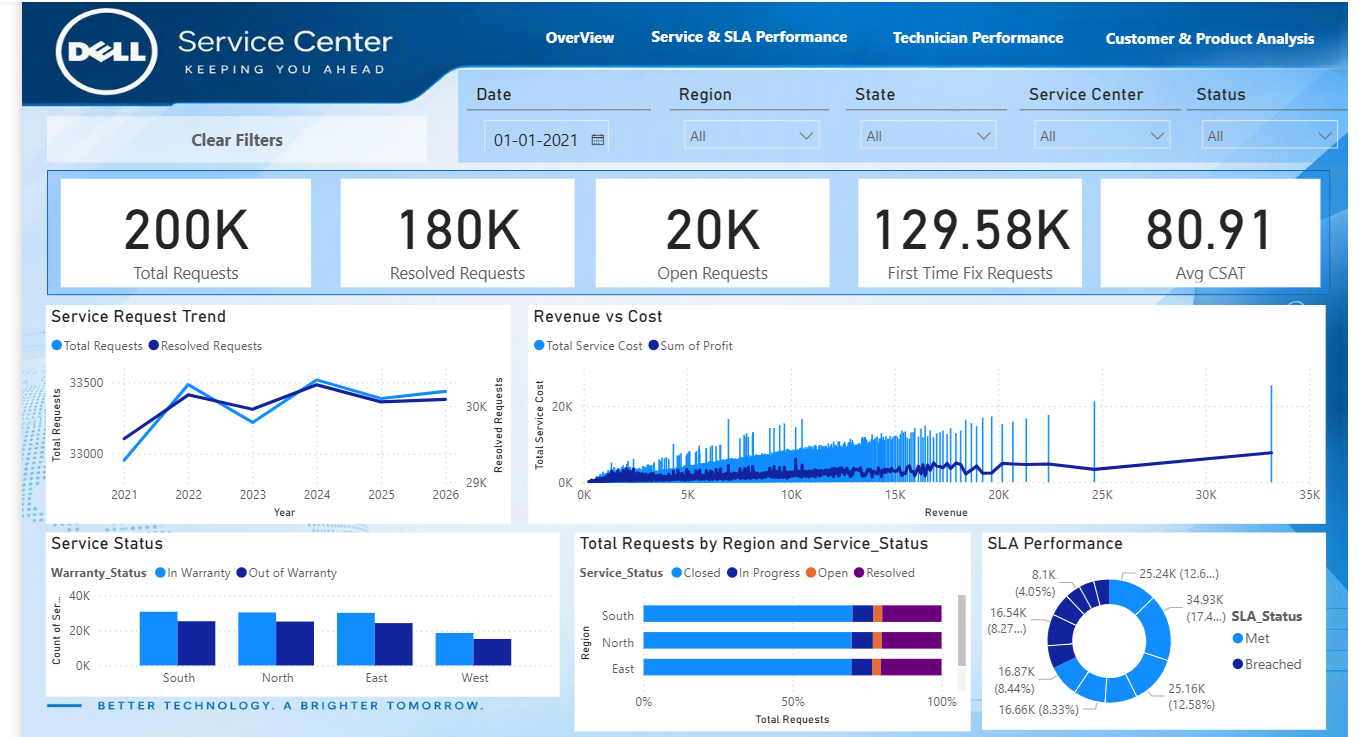

The page's visual inventory and layout, read from the dashboard file:
{"tool":"powerbi","page":{"name":"OverView","canvas":[1280,720],"ordinal":0},"visuals":[{"type":"shape","box":[437.9,15.7,833.7,44.6],"z":0},{"type":"actionButton","box":[488.6,15.7,100.1,39.8],"z":1000},{"type":"actionButton","box":[597.2,14.5,209.9,38.6],"z":2000},{"type":"actionButton","box":[820.4,15.7,205.1,39.8],"z":3000},{"type":"actionButton","box":[1035.1,14.5,223.2,43.4],"z":4000},{"type":"shape","box":[421,67.6,859,89.3],"z":5000},{"type":"slicer","title":"Date","fields":{"Values":["Dim_Date.Date"]},"box":[429.5,76,177.3,72.4],"z":6000},{"type":"slicer","title":"Region","fields":{"Values":["Dim_Location.Region"]},"box":[624.9,76,154.4,72.4],"z":7000},{"type":"slicer","title":"State","fields":{"Values":["Dim_Location.State"]},"box":[795,76,155.6,72.4],"z":8000},{"type":"slicer","title":"Service Center","fields":{"Values":["Dim_Location.Service_Center"]},"box":[962.7,76,155.6,72.4],"z":9000},{"type":"slicer","title":"Status","fields":{"Values":["Fact_Service.Service_Status"]},"box":[1124.4,76,155.6,72.4],"z":10000},{"type":"actionButton","title":"Clear Filters","box":[24.1,112.2,366.8,44.6],"z":11000},{"type":"shape","box":[24.2,163.9,1238.6,120.9],"z":12000},{"type":"card","fields":{"Values":["Fact_Service.FTF %"]},"box":[807.4,172,216.3,104.8],"z":13000},{"type":"card","fields":{"Values":["Fact_Service.Open Requests"]},"box":[553.5,172,225.7,104.8],"z":14000},{"type":"card","fields":{"Values":["Fact_Service.Resolved Requests"]},"box":[307.6,172,225.7,104.8],"z":15000},{"type":"card","fields":{"Values":["Fact_Service.Avg CSAT"]},"box":[1041.1,172,212.3,104.8],"z":16000},{"type":"card","fields":{"Values":["Fact_Service.Total Requests"]},"box":[37.6,172,241.8,104.8],"z":17000},{"type":"lineChart","title":"Service Request Trend","fields":{"Category":["Dim_Date.Date.Variation.Date Hierarchy.Year","Dim_Date.Date.Variation.Date Hierarchy.Quarter","Dim_Date.Date.Variation.Date Hierarchy.Month","Dim_Date.Date.Variation.Date Hierarchy.Day"],"Y":["Fact_Service.Total Requests"],"Y2":["Fact_Service.Resolved Requests"]},"box":[22.8,294.2,448.7,210.9],"z":18000},{"type":"donutChart","title":"SLA Performance","fields":{"Category":["Fact_Service.SLA_Status"],"Series":["Dim_Product.Product_Category"],"Y":["CountNonNull(Fact_Service.Service_Request_ID)"]},"box":[927,514.5,331.8,190.8],"z":19000},{"type":"hundredPercentStackedBarChart","fields":{"Category":["Dim_Location.Region"],"Y":["Fact_Service.Total Requests"],"Series":["Fact_Service.Service_Status"]},"box":[533.2,513.9,382.4,191.8],"z":20000},{"type":"clusteredColumnChart","title":"Service Status","fields":{"Y":["CountNonNull(Fact_Service.Service_Status)"],"Category":["Dim_Location.Region"],"Series":["Fact_Service.Warranty_Status"]},"box":[22.8,514.5,495.7,158.5],"z":21000},{"type":"lineClusteredColumnComboChart","title":"Revenue vs Cost","fields":{"Category":["Fact_Service.Revenue"],"Y":["Fact_Service.Total Service Cost"],"Y2":["Sum(Fact_Service.Profit)"]},"box":[489,294.2,769.8,210.9],"z":22000}]}

Visuals, with their boxes on the page's 1280x720 design canvas (x1, y1, x2, y2). These are canvas units, not pixel positions in the 1371x737 screenshot, which may show the page scaled, cropped or inside an application window:
shape: select_region(438, 16, 1272, 60)
actionButton: select_region(489, 16, 589, 56)
actionButton: select_region(597, 14, 807, 53)
actionButton: select_region(820, 16, 1026, 56)
actionButton: select_region(1035, 14, 1258, 58)
shape: select_region(421, 68, 1280, 157)
"Date" slicer: select_region(430, 76, 607, 148)
"Region" slicer: select_region(625, 76, 779, 148)
"State" slicer: select_region(795, 76, 951, 148)
"Service Center" slicer: select_region(963, 76, 1118, 148)
"Status" slicer: select_region(1124, 76, 1280, 148)
"Clear Filters" actionButton: select_region(24, 112, 391, 157)
shape: select_region(24, 164, 1263, 285)
card - Fact_Service.FTF %: select_region(807, 172, 1024, 277)
card - Fact_Service.Open Requests: select_region(554, 172, 779, 277)
card - Fact_Service.Resolved Requests: select_region(308, 172, 533, 277)
card - Fact_Service.Avg CSAT: select_region(1041, 172, 1253, 277)
card - Fact_Service.Total Requests: select_region(38, 172, 279, 277)
"Service Request Trend" lineChart: select_region(23, 294, 472, 505)
"SLA Performance" donutChart: select_region(927, 514, 1259, 705)
hundredPercentStackedBarChart - Dim_Location.Region x Fact_Service.Total Requests: select_region(533, 514, 916, 706)
"Service Status" clusteredColumnChart: select_region(23, 514, 518, 673)
"Revenue vs Cost" lineClusteredColumnComboChart: select_region(489, 294, 1259, 505)
